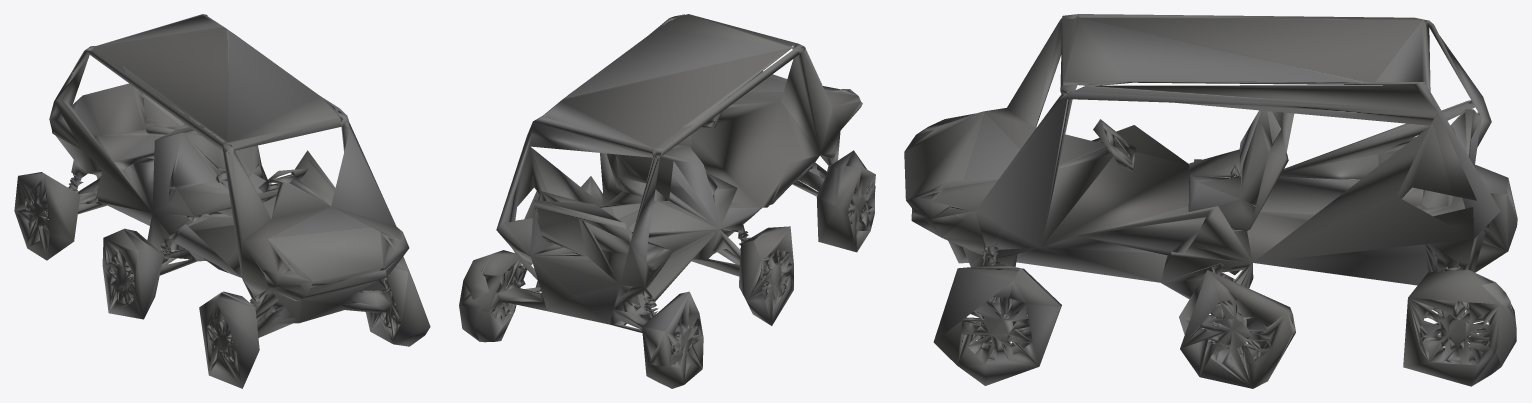
The model's file is rover.glb.
3 renders of one model, left to right at view 1: azimuth 30°, elevation 25°; view 2: azimuth 150°, elevation 25°; view 3: azimuth 270°, elevation 25°, orthographic. The views are drawn at different scales.
Visible parts, largest first — view 1: LO.001; view 2: LO.001; view 3: LO.001.
Boxes of the visible parts, box(x1,y1,x2,y2) form: LO.001: box(14, 14, 430, 388); LO.001: box(459, 14, 875, 388); LO.001: box(904, 14, 1517, 388).
Bounding box in the file's own units: 2.56 × 2.54 × 5.
Materials: 1 (1 with a texture image).
